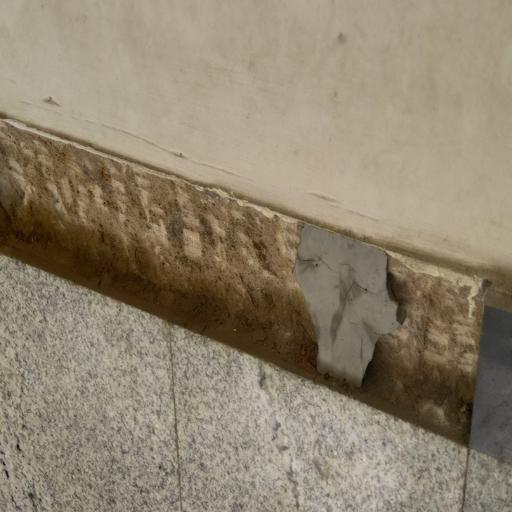spalling: (0, 103, 512, 441)
